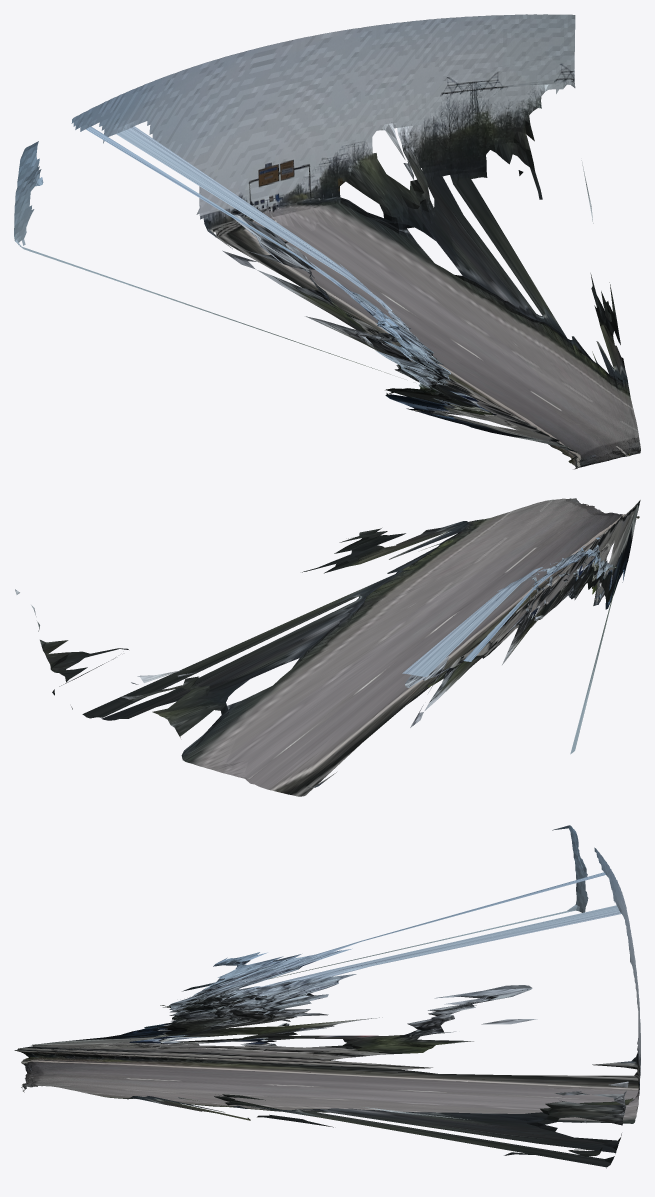
3 views of the same model, one above another, from view 1: azimuth 30°, elevation 25°; view 2: azimuth 150°, elevation 25°; view 3: azimuth 270°, elevation 25° (orthographic). The views are drawn at different scales.
Visible parts, largest first — view 1: defaultobject; view 2: defaultobject; view 3: defaultobject.
Part boxes in pixels (<box>): defaultobject: <box>14,14,640,469</box>; defaultobject: <box>15,498,640,796</box>; defaultobject: <box>14,825,640,1168</box>.
Size of the model in its own units: 41 by 12.94 by 45.02.
Materials: 1 (1 with a texture image).
